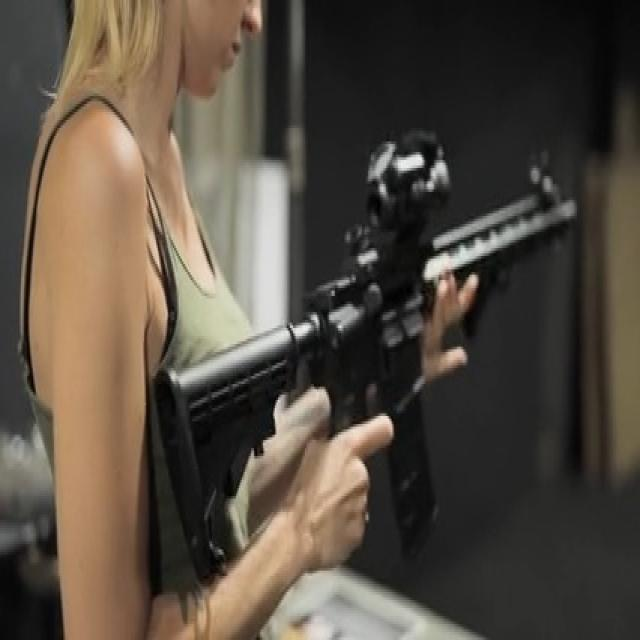Gun_Holder: (144, 152, 603, 572)
Person: (18, 0, 401, 640)
